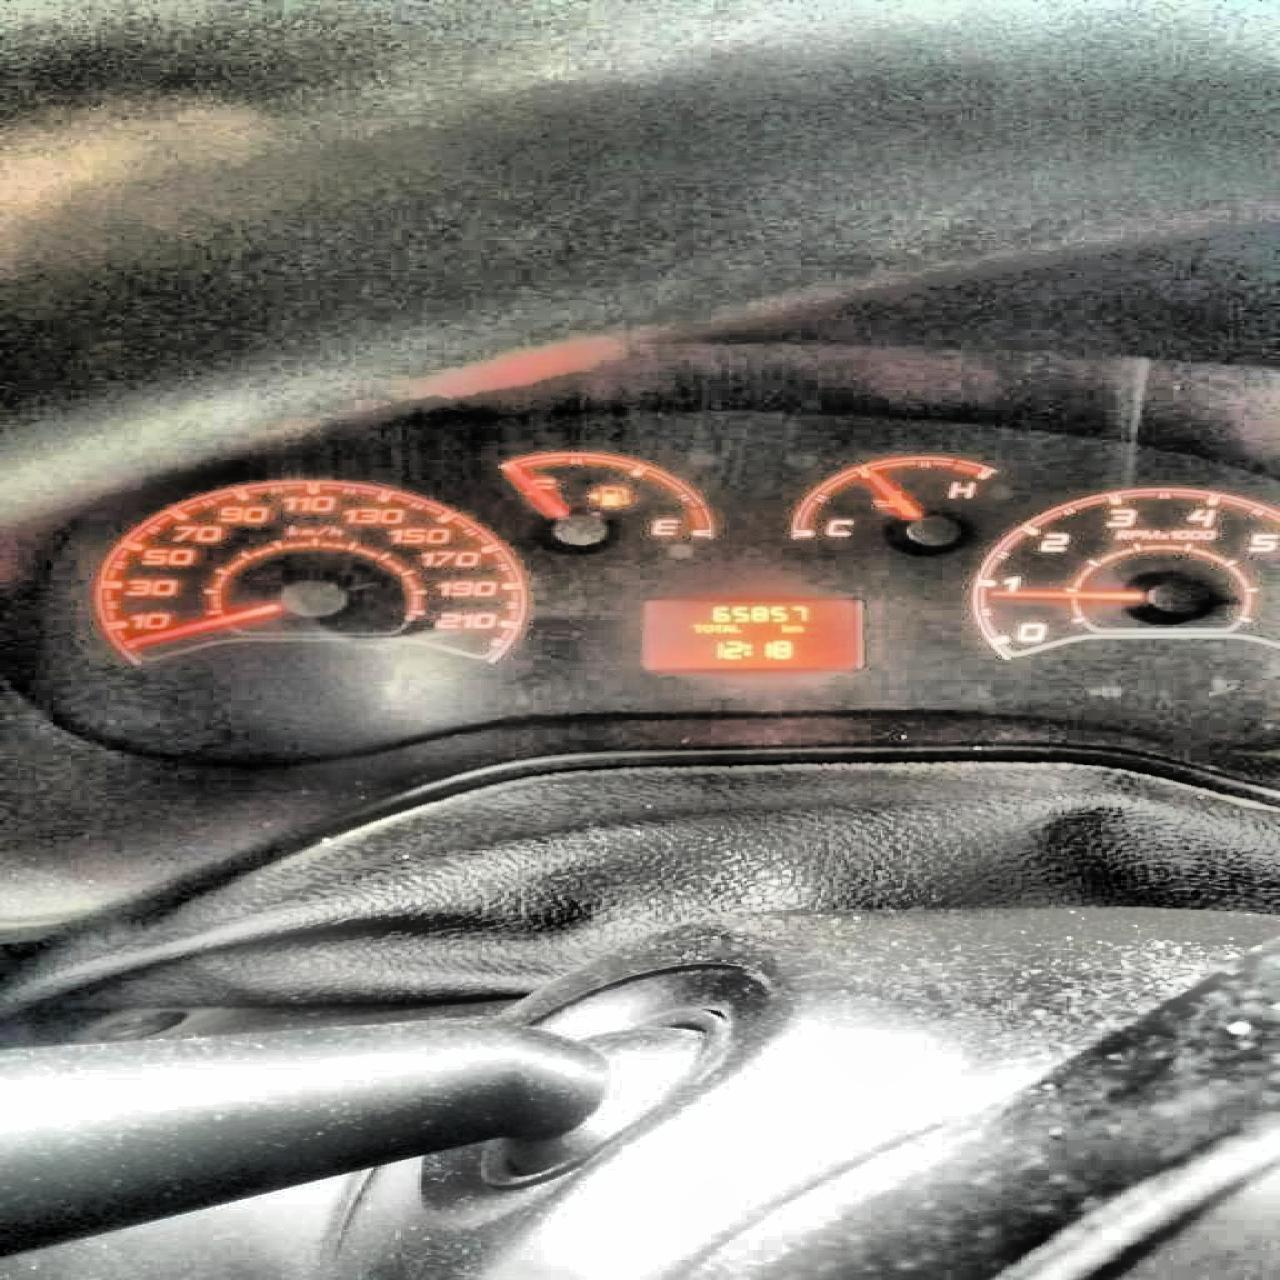1: (757, 640, 771, 659), (712, 639, 720, 659)
2: (720, 639, 742, 659)
5: (729, 604, 749, 621), (767, 605, 787, 621)
6: (707, 604, 729, 622)
7: (789, 604, 806, 621)
8: (771, 640, 794, 659), (747, 604, 767, 621)
X: (687, 622, 700, 633), (742, 642, 751, 656), (789, 625, 804, 633), (700, 622, 712, 633), (778, 622, 789, 633), (720, 622, 729, 633), (729, 624, 738, 633), (712, 622, 720, 633)
odometer: (635, 595, 865, 670)
